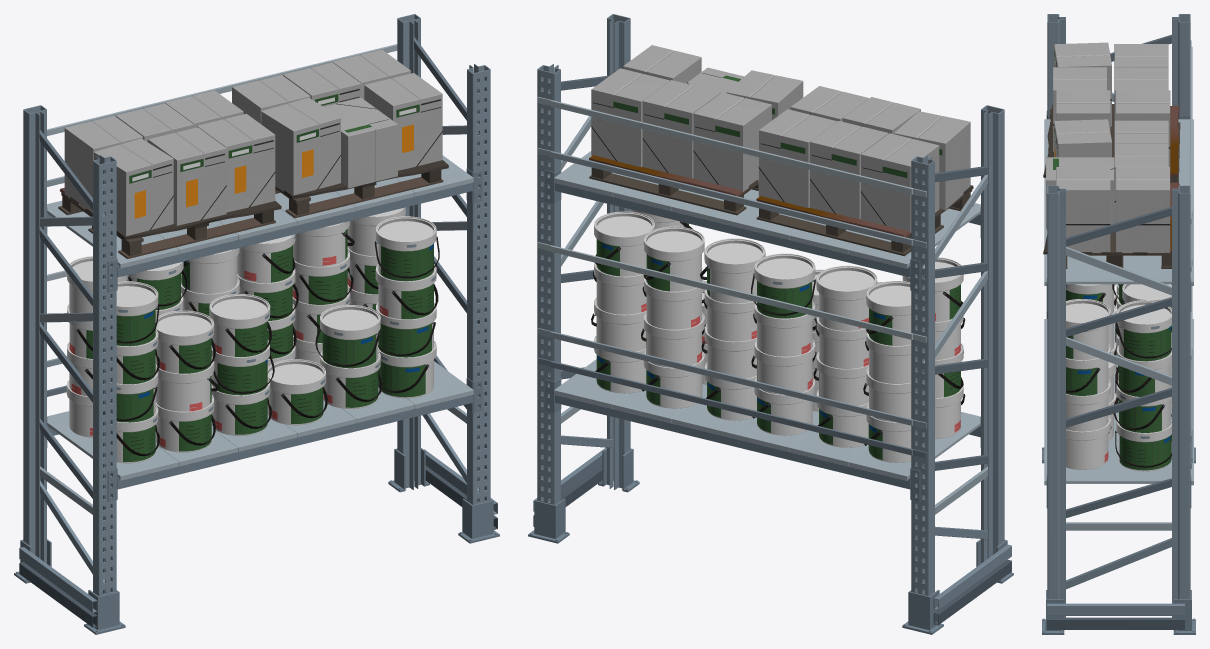
File: SM_Aisle_White_D.fbx
The picture shows the model from 3 angles, left to right: view 1: azimuth 30°, elevation 25°; view 2: azimuth 150°, elevation 25°; view 3: azimuth 270°, elevation 25°; orthographic projection. The views are drawn at different scales.
Visible parts, largest first — view 1: SM_Aisle_White_D; view 2: SM_Aisle_White_D; view 3: SM_Aisle_White_D.
Part boxes in pixels (x1=…): SM_Aisle_White_D: x1=14, y1=14, x2=499, y2=634; SM_Aisle_White_D: x1=528, y1=14, x2=1013, y2=634; SM_Aisle_White_D: x1=1042, y1=14, x2=1195, y2=634.
Size of the model in its own units: 336 by 370 by 118.
